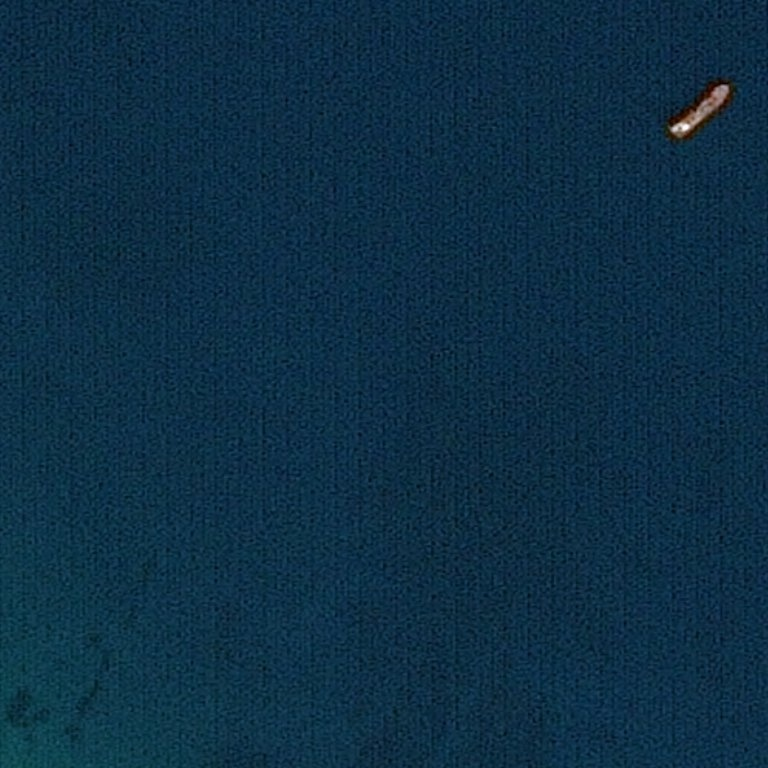ship: (669, 83, 730, 136)
